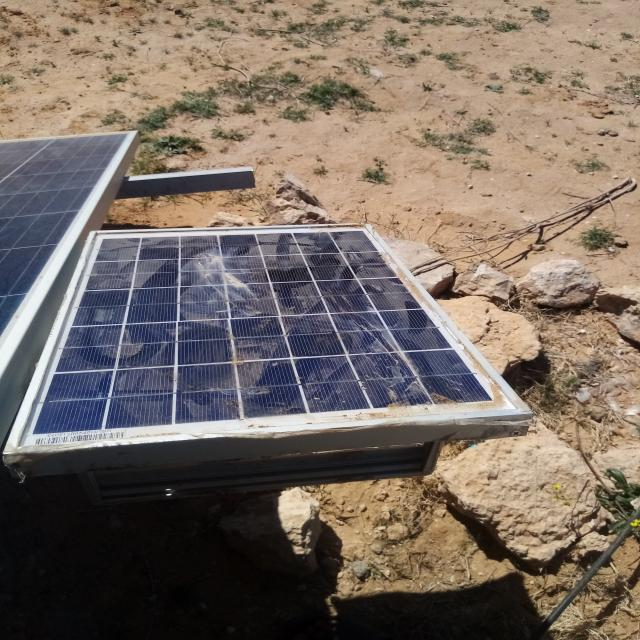faulty: (10, 225, 527, 446)
